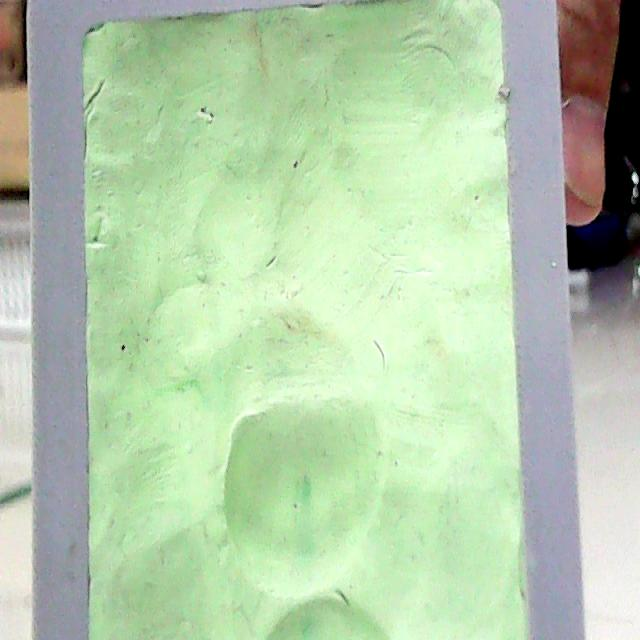block: (15, 0, 600, 639)
